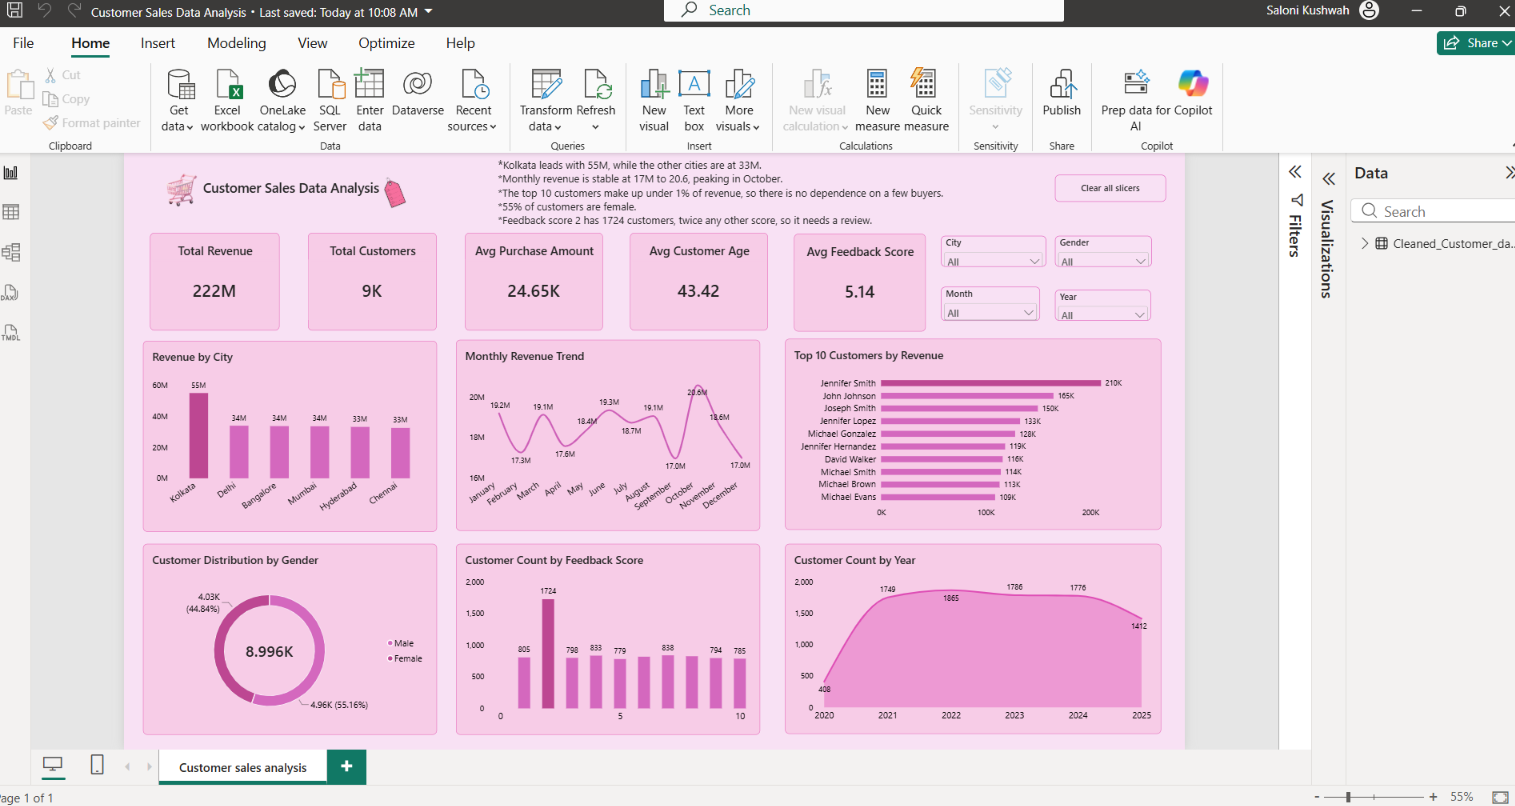

The dashboard page shown, as its layout file describes it:
{"tool":"powerbi","page":{"name":"Customer sales analysis","canvas":[1920,1080],"ordinal":0},"visuals":[{"type":"cardVisual","title":"Total Revenue","fields":{"Data":["Cleaned_Customer_data_with_python.Total Revenue"]},"box":[47.1,144.8,234.7,176.5],"z":0},{"type":"textbox","box":[143,47.1,328.5,48.8],"z":1000},{"type":"cardVisual","title":"Total Customers","fields":{"Data":["Cleaned_Customer_data_with_python.Total Customers"]},"box":[333,144.8,232.8,176.5],"z":2000},{"type":"cardVisual","title":"Avg Purchase Amount","fields":{"Data":["Cleaned_Customer_data_with_python.Avg Purchase Amount"]},"box":[617.1,144.8,249.7,176.5],"z":3000},{"type":"cardVisual","title":"Avg Customer Age","fields":{"Data":["Cleaned_Customer_data_with_python.Avg Customer Age"]},"box":[915.7,144.8,249.7,176.5],"z":4000},{"type":"cardVisual","title":"Avg Feedback Score","fields":{"Data":["Cleaned_Customer_data_with_python.Avg Feedback Score"]},"box":[1212.5,146.6,238.4,176.5],"z":5000},{"type":"columnChart","title":"Revenue by City","fields":{"Category":["Cleaned_Customer_data_with_python.City"],"Y":["Sum(Cleaned_Customer_data_with_python.Purchase_Amount)"]},"box":[34.4,340.2,532,345.6],"z":6000},{"type":"donutChart","title":"Customer Distribution by Gender","fields":{"Category":["Cleaned_Customer_data_with_python.Gender"],"Y":["CountNonNull(Cleaned_Customer_data_with_python.Customer_ID)"]},"box":[34.4,707.6,532,345.6],"z":7000},{"type":"lineChart","title":"Monthly Revenue Trend","fields":{"Category":["Cleaned_Customer_data_with_python.Last_Purchase_Date.Variation.Date Hierarchy.Month","Cleaned_Customer_data_with_python.Last_Purchase_Date.Variation.Date Hierarchy.Day"],"Y":["Sum(Cleaned_Customer_data_with_python.Purchase_Amount)"]},"box":[600.8,338.4,550.1,345.6],"z":8000},{"type":"columnChart","title":"Customer Count by Feedback Score","fields":{"Category":["Cleaned_Customer_data_with_python.Feedback_Score"],"Y":["CountNonNull(Cleaned_Customer_data_with_python.Customer_ID)"]},"box":[600.8,707.6,550.1,345.6],"z":9000},{"type":"barChart","title":"Top 10 Customers by Revenue","fields":{"Category":["Cleaned_Customer_data_with_python.Name","Cleaned_Customer_data_with_python.Customer_ID"],"Y":["Sum(Cleaned_Customer_data_with_python.Purchase_Amount)"]},"box":[1196.2,336.6,680.4,345.6],"z":10000},{"type":"areaChart","title":"Customer Count by Year","fields":{"Category":["Cleaned_Customer_data_with_python.Signup_Date.Variation.Date Hierarchy.Year","Cleaned_Customer_data_with_python.Signup_Date.Variation.Date Hierarchy.Quarter","Cleaned_Customer_data_with_python.Signup_Date.Variation.Date Hierarchy.Month","Cleaned_Customer_data_with_python.Signup_Date.Variation.Date Hierarchy.Day"],"Y":["CountNonNull(Cleaned_Customer_data_with_python.Customer_ID)"]},"box":[1196.2,707.6,680.4,343.8],"z":11000},{"type":"slicer","fields":{"Values":["Cleaned_Customer_data_with_python.City"]},"box":[1478.5,150.2,190,56.1],"z":12000},{"type":"slicer","fields":{"Values":["Cleaned_Customer_data_with_python.Gender"]},"box":[1684.8,150.2,175.5,56.1],"z":13000},{"type":"actionButton","box":[1684.8,39.8,200.9,48.8],"z":14000},{"type":"image","box":[427.1,39.8,126.7,65.1],"z":15000},{"type":"image","box":[59.7,25.3,83.2,77.8],"z":16000},{"type":"slicer","fields":{"Values":["Cleaned_Customer_data_with_python.Last_Purchase_Date.Variation.Date Hierarchy.Month"]},"box":[1478.5,242.5,179.2,61.5],"z":16001},{"type":"slicer","fields":{"Values":["Cleaned_Customer_data_with_python.Last_Purchase_Date.Variation.Date Hierarchy.Year"]},"box":[1684.8,247.9,173.7,56.1],"z":16002},{"type":"textbox","box":[676.8,5.4,843.3,139.3],"z":16005}]}

Visuals, with their boxes on the page's 1920x1080 design canvas (x1, y1, x2, y2). These are canvas units, not pixel positions in the 1515x806 screenshot, which may show the page scaled, cropped or inside an application window:
"Total Revenue" cardVisual: [left=47, top=145, right=282, bottom=321]
textbox: [left=143, top=47, right=472, bottom=96]
"Total Customers" cardVisual: [left=333, top=145, right=566, bottom=321]
"Avg Purchase Amount" cardVisual: [left=617, top=145, right=867, bottom=321]
"Avg Customer Age" cardVisual: [left=916, top=145, right=1165, bottom=321]
"Avg Feedback Score" cardVisual: [left=1212, top=147, right=1451, bottom=323]
"Revenue by City" columnChart: [left=34, top=340, right=566, bottom=686]
"Customer Distribution by Gender" donutChart: [left=34, top=708, right=566, bottom=1053]
"Monthly Revenue Trend" lineChart: [left=601, top=338, right=1151, bottom=684]
"Customer Count by Feedback Score" columnChart: [left=601, top=708, right=1151, bottom=1053]
"Top 10 Customers by Revenue" barChart: [left=1196, top=337, right=1877, bottom=682]
"Customer Count by Year" areaChart: [left=1196, top=708, right=1877, bottom=1051]
slicer - Cleaned_Customer_data_with_python.City: [left=1478, top=150, right=1668, bottom=206]
slicer - Cleaned_Customer_data_with_python.Gender: [left=1685, top=150, right=1860, bottom=206]
actionButton: [left=1685, top=40, right=1886, bottom=89]
image: [left=427, top=40, right=554, bottom=105]
image: [left=60, top=25, right=143, bottom=103]
slicer - Cleaned_Customer_data_with_python.Last_Purchase_Date.Variation.Date Hierarchy.Month: [left=1478, top=242, right=1658, bottom=304]
slicer - Cleaned_Customer_data_with_python.Last_Purchase_Date.Variation.Date Hierarchy.Year: [left=1685, top=248, right=1858, bottom=304]
textbox: [left=677, top=5, right=1520, bottom=145]
